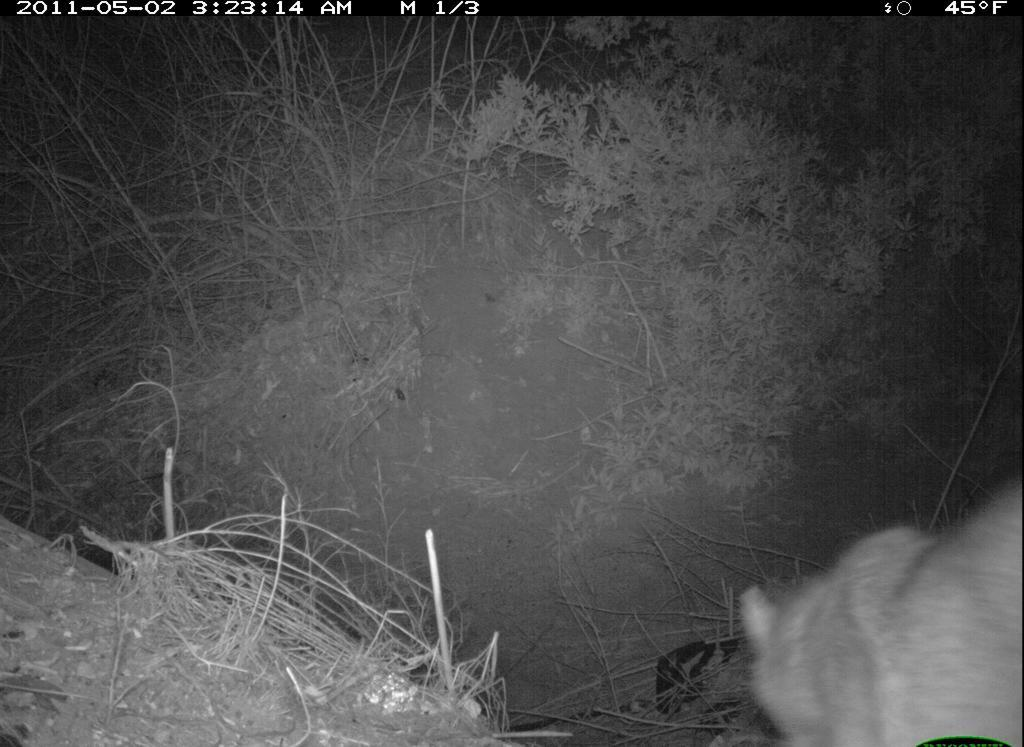raccoon: (730, 473, 1022, 742)
